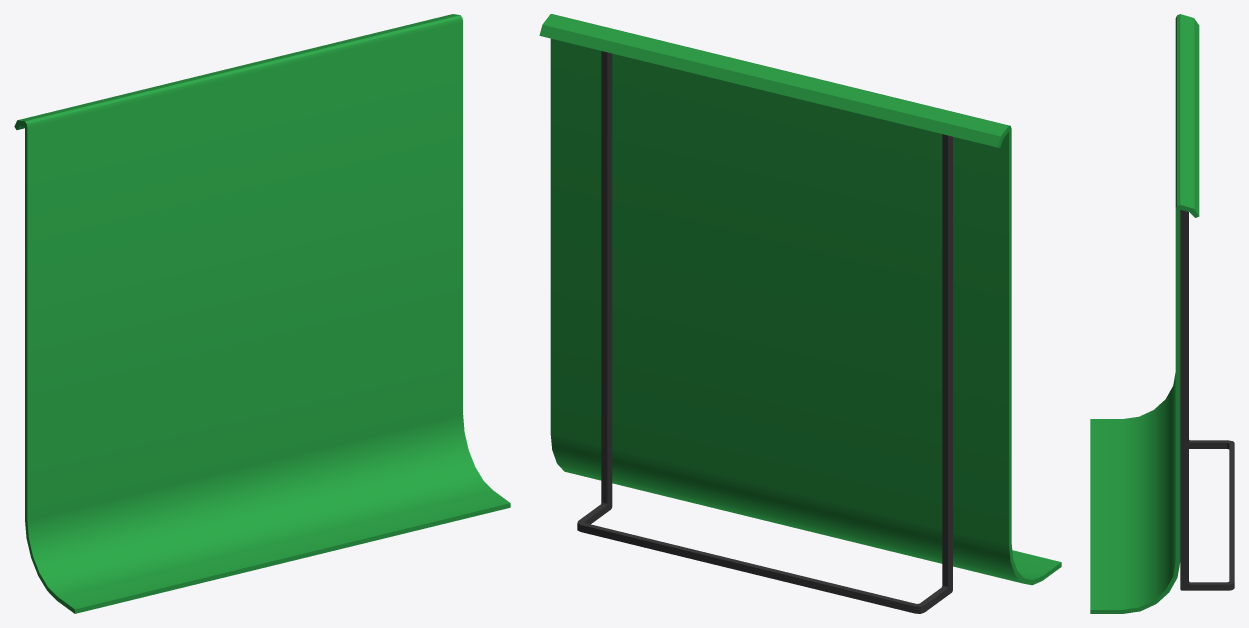
Rendered from Green_Screen.obj.
The picture shows the model from 3 angles, left to right: view 1: azimuth 30°, elevation 25°; view 2: azimuth 150°, elevation 25°; view 3: azimuth 270°, elevation 25°; orthographic projection. The views are drawn at different scales.
Visible parts, largest first — view 1: Green_Screen; view 2: Green_Screen; view 3: Green_Screen.
Boxes of the visible parts, x1=… form: Green_Screen: x1=14, y1=14, x2=510, y2=613; Green_Screen: x1=539, y1=14, x2=1061, y2=613; Green_Screen: x1=1090, y1=14, x2=1234, y2=613.
Bounding box in the file's own units: 2 × 2 × 0.6379.
